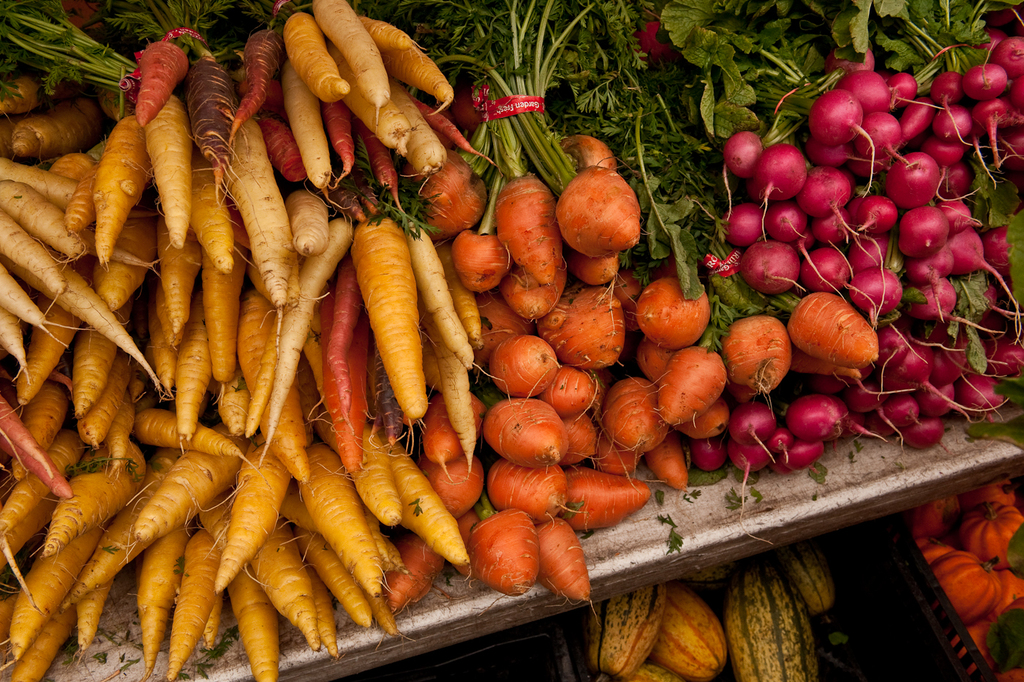Carrot: (323, 125, 784, 604), (784, 291, 879, 374), (133, 32, 188, 126)
